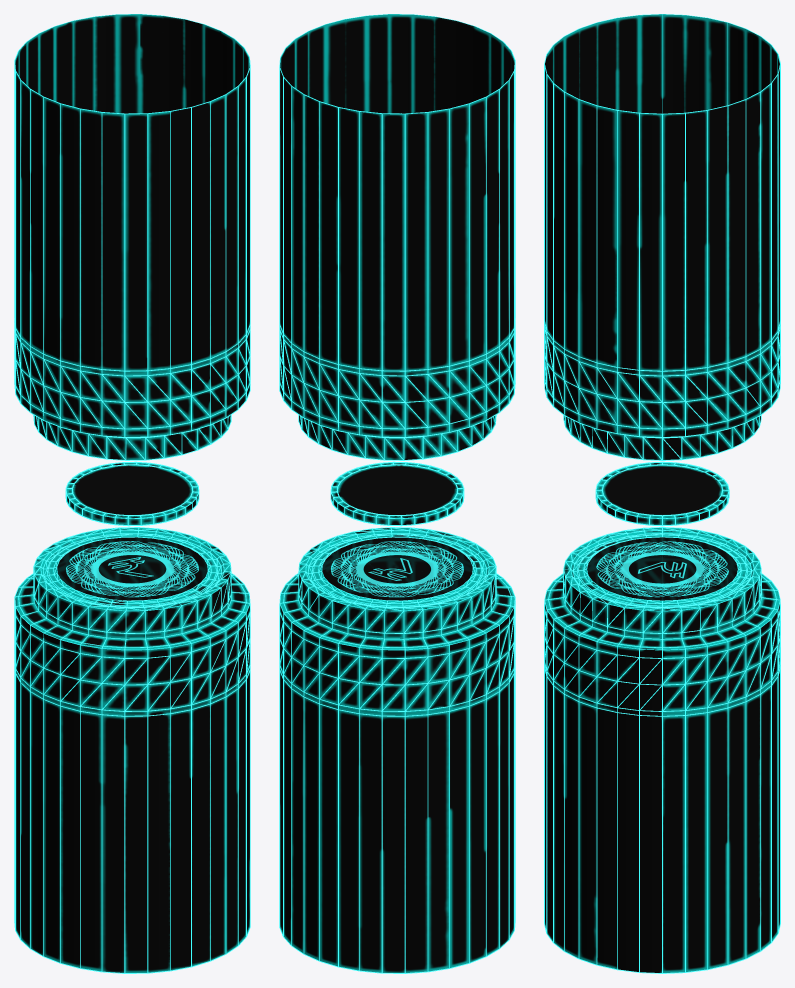
Rendered from Coin_minting.glb.
The picture shows the model from 3 angles, left to right: view 1: azimuth 30°, elevation 25°; view 2: azimuth 150°, elevation 25°; view 3: azimuth 270°, elevation 25°; orthographic projection.
Visible parts, largest first — view 1: CM_Bottom, CM_Top, Coin; view 2: CM_Top, CM_Bottom, Coin; view 3: CM_Bottom, CM_Top, Coin.
Part boxes in pixels (x1=…): CM_Bottom: x1=14, y1=527, x2=250, y2=973; CM_Top: x1=14, y1=14, x2=250, y2=460; Coin: x1=65, y1=461, x2=199, y2=526; CM_Top: x1=279, y1=14, x2=515, y2=460; CM_Bottom: x1=279, y1=527, x2=515, y2=973; Coin: x1=330, y1=461, x2=464, y2=526; CM_Bottom: x1=544, y1=527, x2=780, y2=973; CM_Top: x1=544, y1=14, x2=780, y2=460; Coin: x1=595, y1=461, x2=729, y2=526.
Bounding box in the file's own units: 2.01 × 8.07 × 2.01.
Materials: 3 (2 with a texture image).
